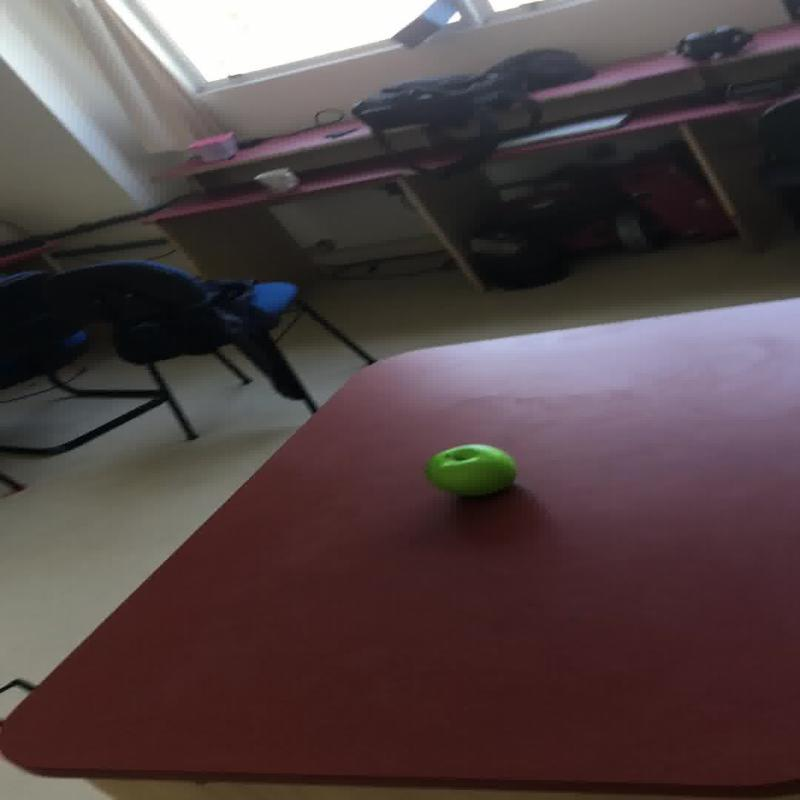apple: (423, 443, 516, 496)
